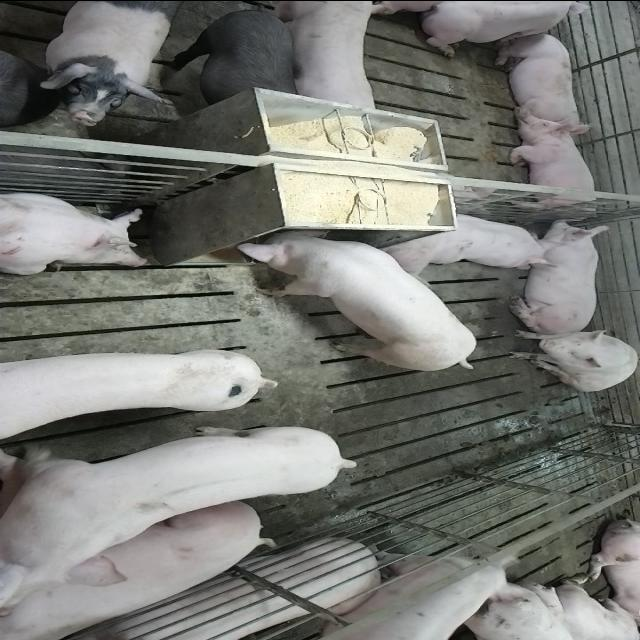Feeding: (234, 230, 478, 376)
Lateral_lying: (0, 498, 270, 640), (22, 540, 375, 640)
Sitting: (503, 328, 636, 391)
Standing: (2, 428, 360, 597), (0, 346, 269, 432), (304, 549, 529, 640), (36, 2, 174, 126), (168, 4, 304, 112), (272, 3, 383, 119), (0, 35, 30, 127)
Sternal_lying: (0, 190, 154, 274), (508, 216, 611, 330), (378, 208, 560, 270), (418, 2, 602, 56), (491, 29, 588, 130), (506, 116, 604, 215)
